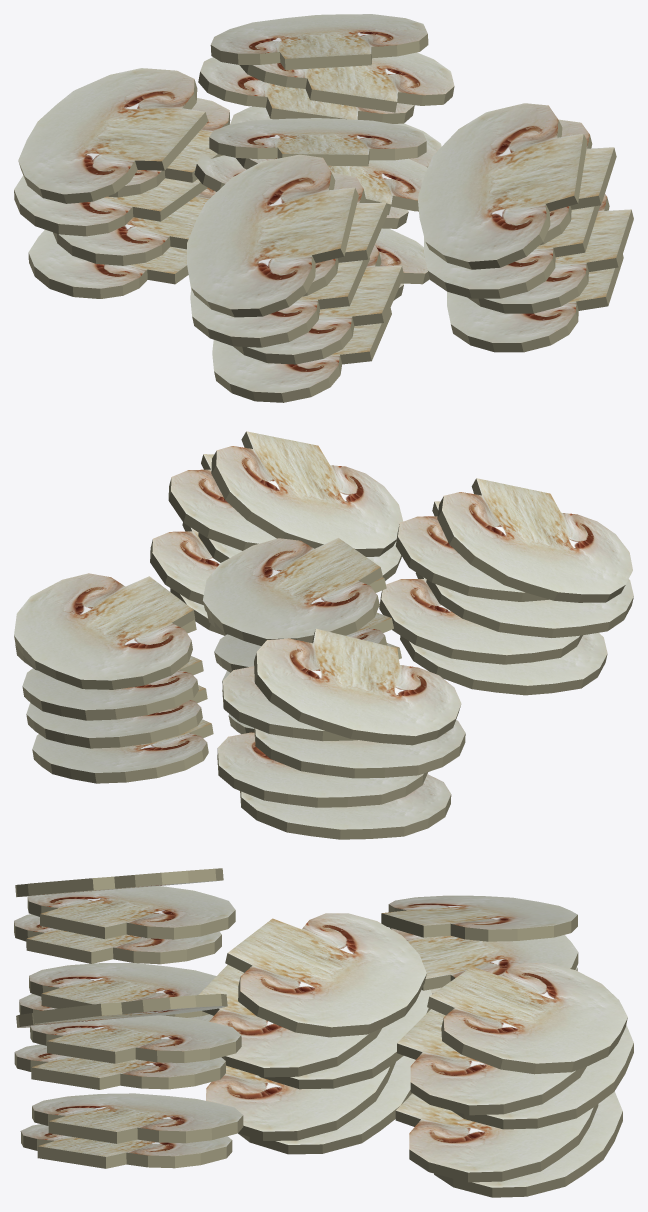
Rendered from mushrooms table.fbx.
3 views of the same model, one above another, from view 1: azimuth 30°, elevation 25°; view 2: azimuth 150°, elevation 25°; view 3: azimuth 270°, elevation 25° (orthographic). The views are drawn at different scales.
Visible parts, largest first — view 1: Circle.005; view 2: Circle.005; view 3: Circle.005.
Boxes of the visible parts, bbox=[...] form: Circle.005: bbox=[14, 14, 633, 402]; Circle.005: bbox=[14, 431, 633, 839]; Circle.005: bbox=[14, 868, 633, 1197].
Size of the model in its own units: 29.71 by 12.92 by 34.27.
2 materials, 1 textured.
